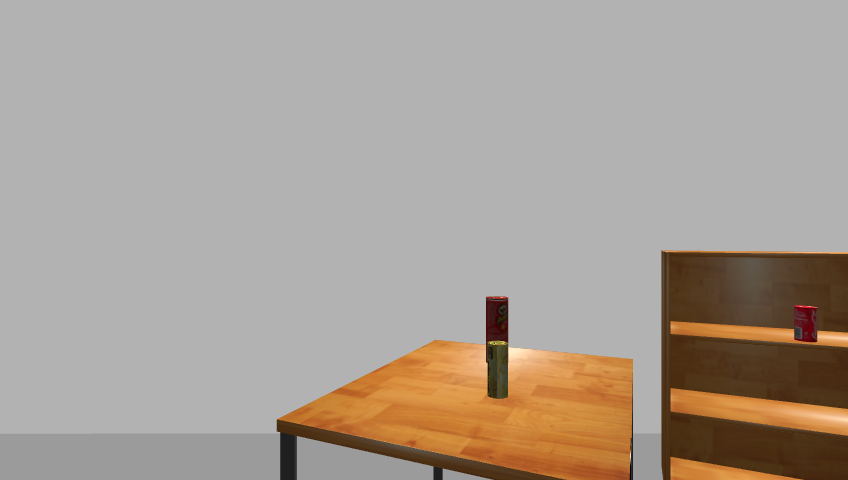biscuits pack: (486, 341, 509, 400)
bookshelf: (656, 250, 847, 479)
coke can: (792, 306, 820, 343)
dinner table: (269, 340, 642, 480)
pringles can: (483, 294, 510, 371)
